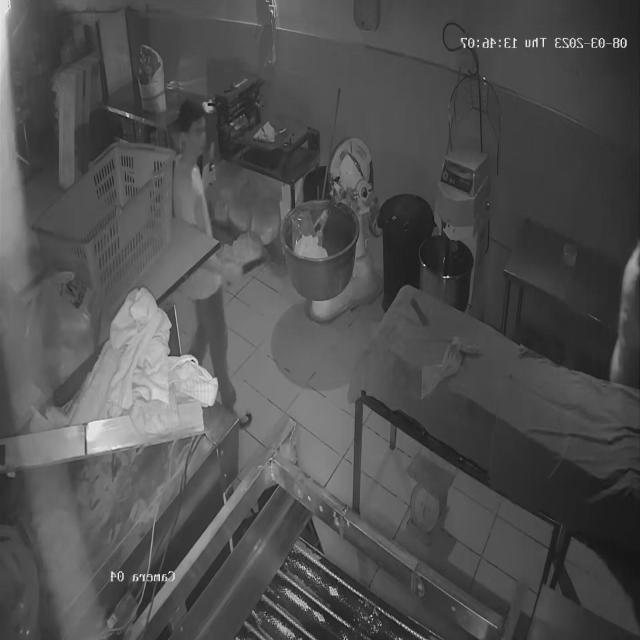Knife: (227, 240, 280, 282)
